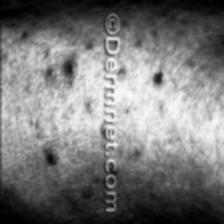Non-Cancerous Skin Condition: (45, 148, 57, 166), (64, 61, 76, 76), (46, 65, 56, 81), (152, 71, 162, 85), (85, 103, 94, 112)
